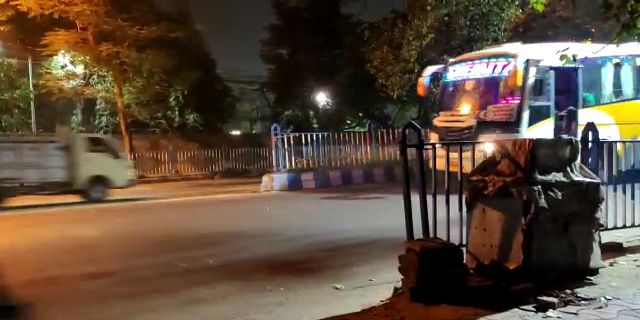Bus: (413, 46, 626, 187)
Minitruck: (10, 130, 134, 207)
